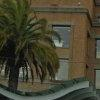Palm tree: (3, 2, 62, 92)
